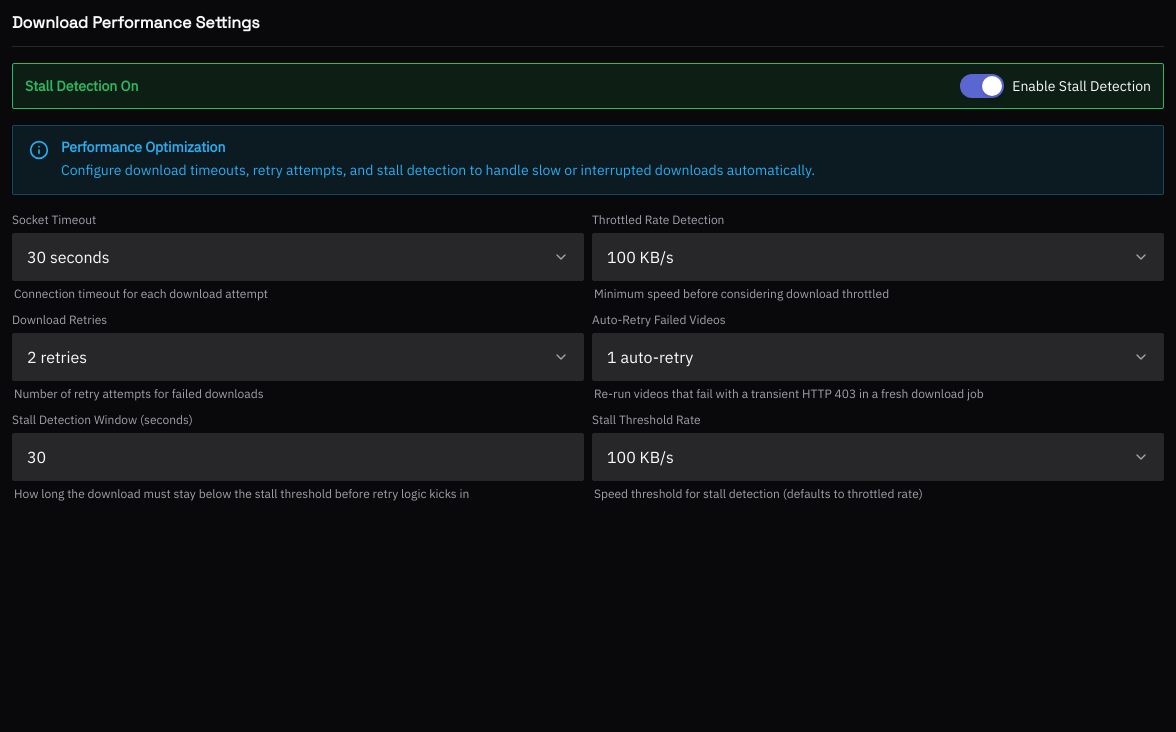
DownloadPerformanceSection Component › Download Retries Select › displays all retry count options
Click the button "2 retries": x=57, y=357 left=12, top=333, right=584, bottom=381
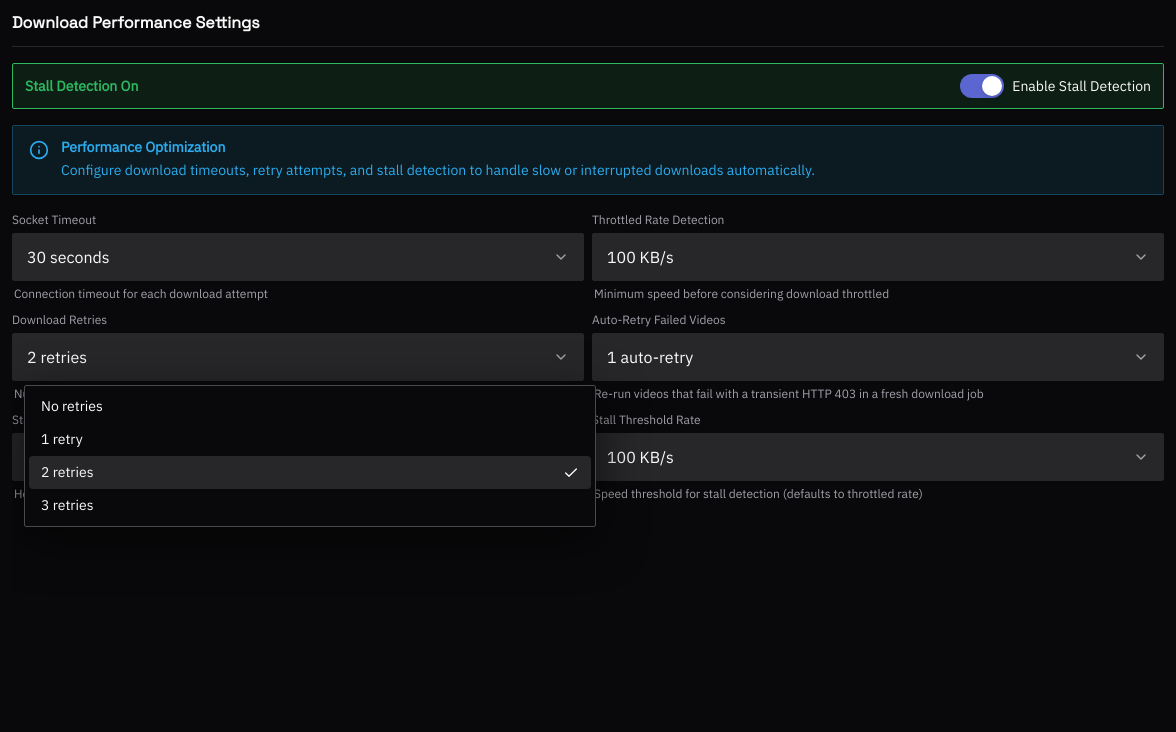
Check: the option "No retries" is shown, box left=41, top=397, right=103, bottom=415
Check: the option "1 retry" is shown, box left=41, top=430, right=83, bottom=448
Check: the option "2 retries" is shown, box left=29, top=456, right=591, bottom=489
